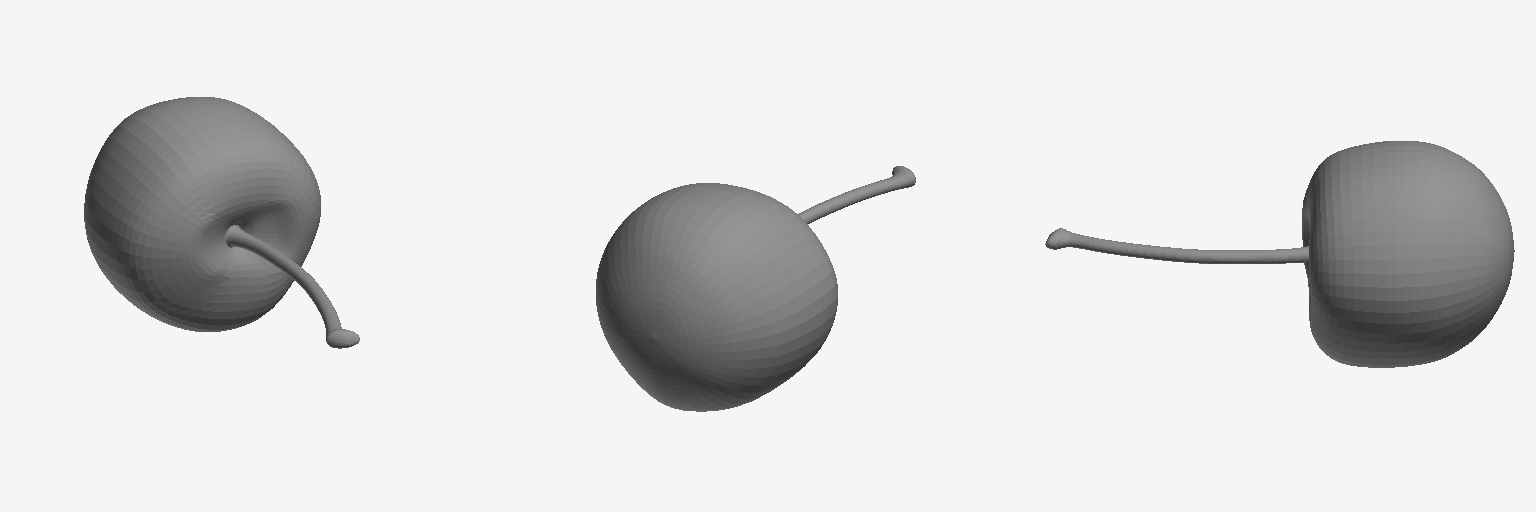
File: 10174_Cherry_v01_l3.obj
3 renders of one model, left to right at view 1: azimuth 30°, elevation 25°; view 2: azimuth 150°, elevation 25°; view 3: azimuth 270°, elevation 25°, orthographic.
Parts seen in each view (by area): view 1: 10174_Cherry_v01; view 2: 10174_Cherry_v01; view 3: 10174_Cherry_v01.
Part boxes in pixels (x1,y1,x2,y2): 10174_Cherry_v01: (84, 97, 359, 348); 10174_Cherry_v01: (596, 166, 915, 411); 10174_Cherry_v01: (1045, 141, 1514, 367).
Size of the model in its own units: 5.39 by 5.16 by 10.69.